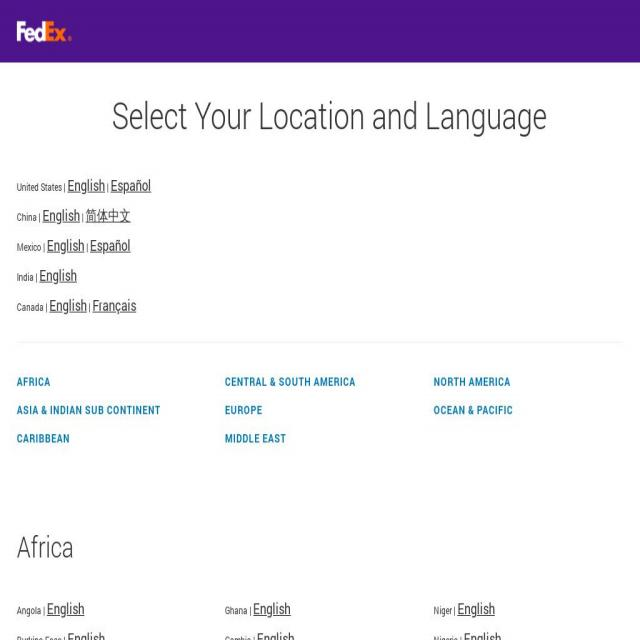language: (20, 160, 155, 325)
navigation-links: (4, 353, 532, 490)
